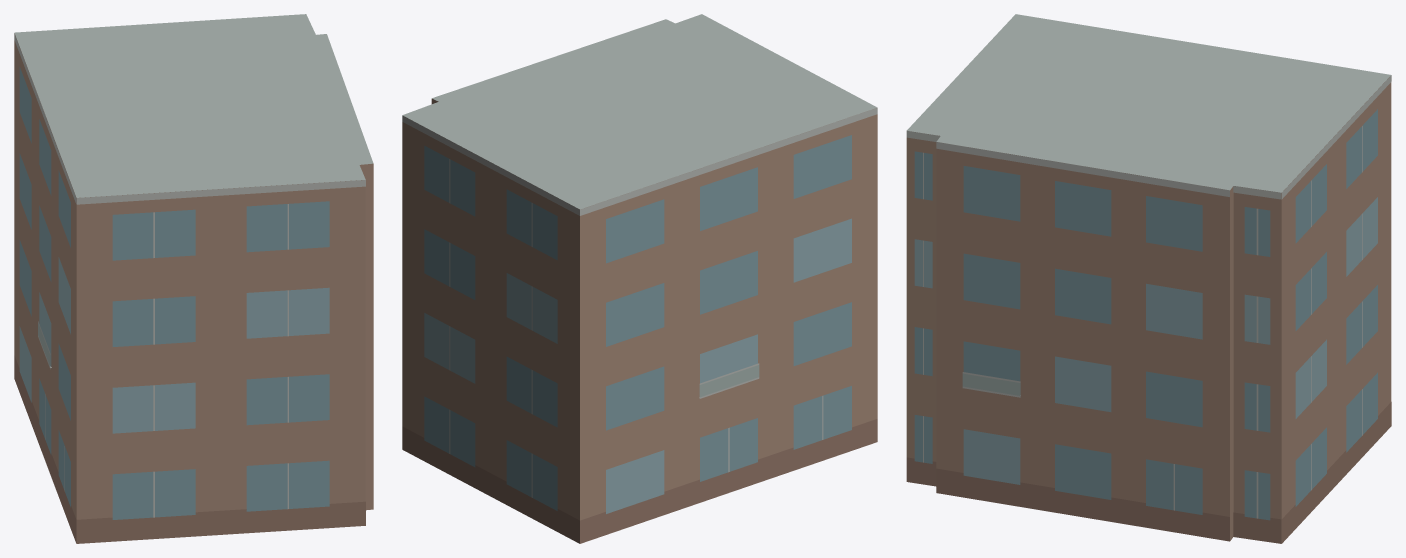
The model's file is survey-upis-32535123.glb.
3 views of the same model, side by side, from view 1: azimuth 30°, elevation 25°; view 2: azimuth 150°, elevation 25°; view 3: azimuth 270°, elevation 25° (orthographic). The views are drawn at different scales.
Parts seen in each view (by area): view 1: survey-upis-32535123.tmp; view 2: survey-upis-32535123.tmp; view 3: survey-upis-32535123.tmp.
Boxes of the visible parts, bbox=[...] form: survey-upis-32535123.tmp: bbox=[14, 14, 373, 543]; survey-upis-32535123.tmp: bbox=[402, 14, 877, 543]; survey-upis-32535123.tmp: bbox=[906, 14, 1391, 543].
Size of the model in its own units: 13.65 by 12.5 by 15.65.
